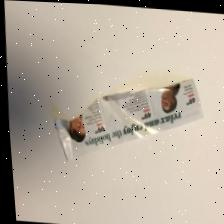paper: (28, 38, 222, 197)
